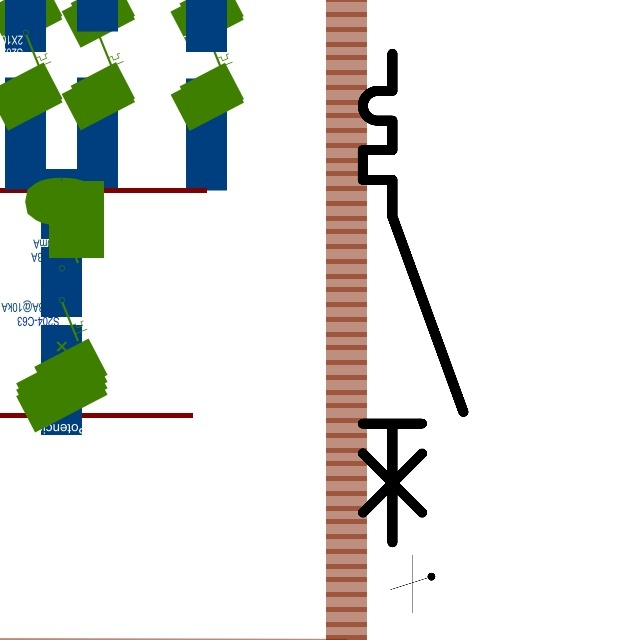interruptor_termomagnetico: (350, 41, 475, 554)
